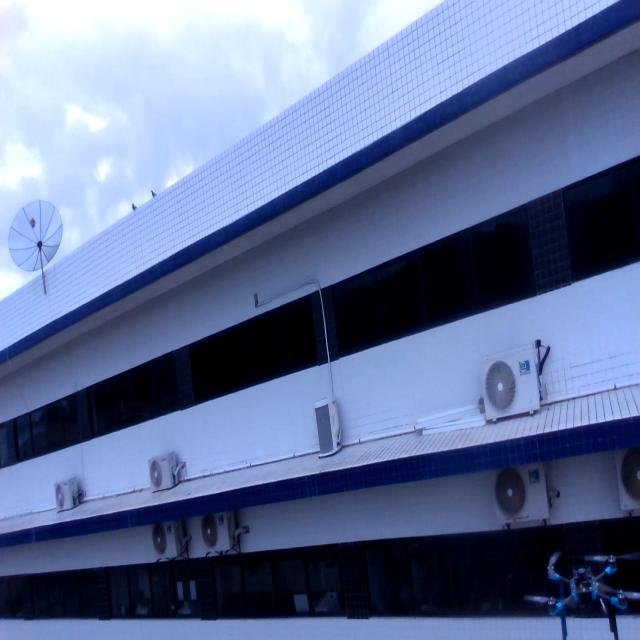-uav-: (520, 527, 640, 640)
